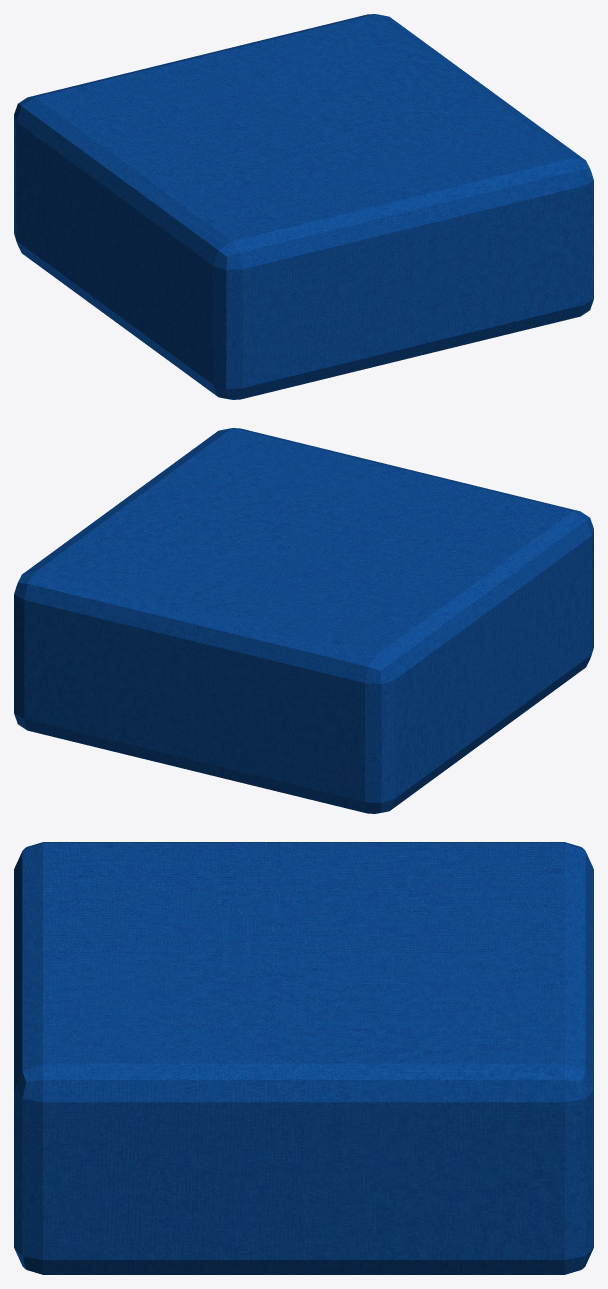
Rendered from decor__11.glb.
3 views of the same model, one above another, from view 1: azimuth 30°, elevation 25°; view 2: azimuth 150°, elevation 25°; view 3: azimuth 270°, elevation 25° (orthographic). The views are drawn at different scales.
Visible parts, largest first — view 1: towels; view 2: towels; view 3: towels.
Boxes of the visible parts, box(x1,y1,x2,y2) form: towels: box(14, 14, 593, 399); towels: box(14, 428, 593, 813); towels: box(14, 842, 593, 1274).
Size of the model in its own units: 0.3 by 0.12 by 0.3.
Materials: 1 (1 with a texture image).
